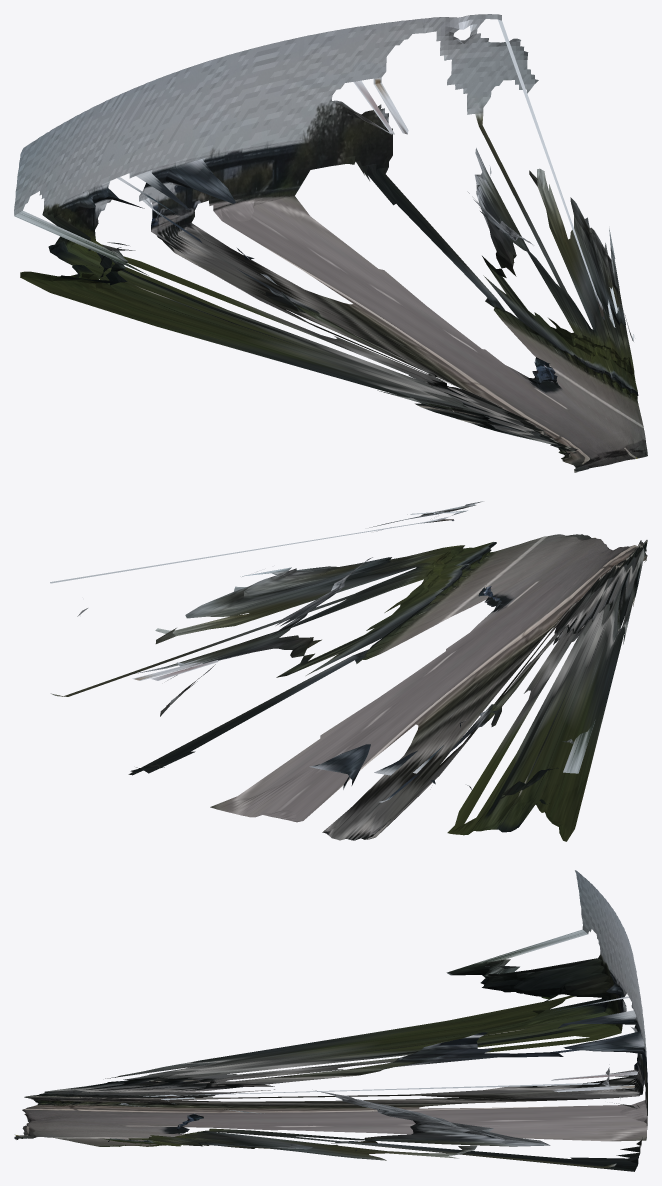
3 views of the same model, one above another, from view 1: azimuth 30°, elevation 25°; view 2: azimuth 150°, elevation 25°; view 3: azimuth 270°, elevation 25° (orthographic). The views are drawn at different scales.
Parts seen in each view (by area): view 1: defaultobject; view 2: defaultobject; view 3: defaultobject.
Part boxes in pixels (<box>): defaultobject: <box>14,14,647,472</box>; defaultobject: <box>50,501,647,841</box>; defaultobject: <box>14,870,647,1171</box>.
Size of the model in its own units: 38.55 by 11.97 by 44.77.
Materials: 1 (1 with a texture image).
